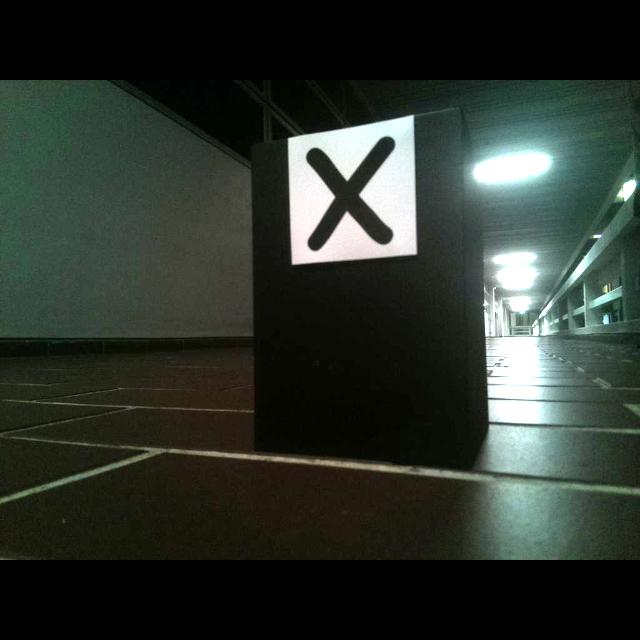X: (306, 135, 396, 252)
